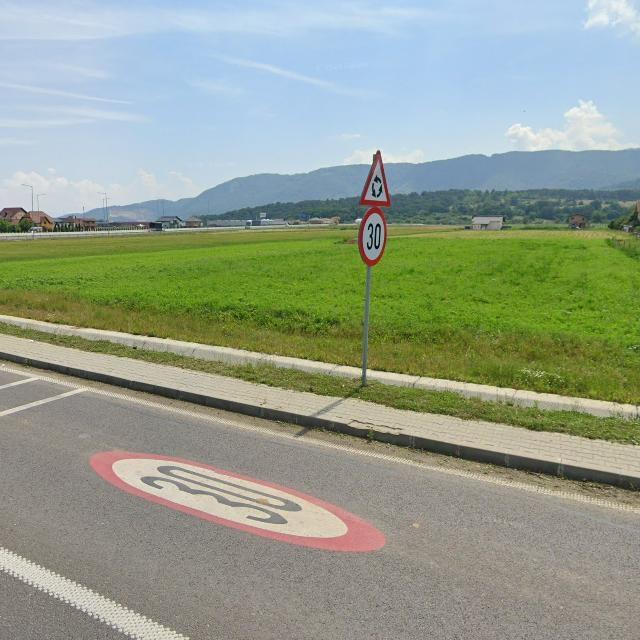forb_speed_over_30: (82, 445, 396, 556), (355, 206, 390, 269)
